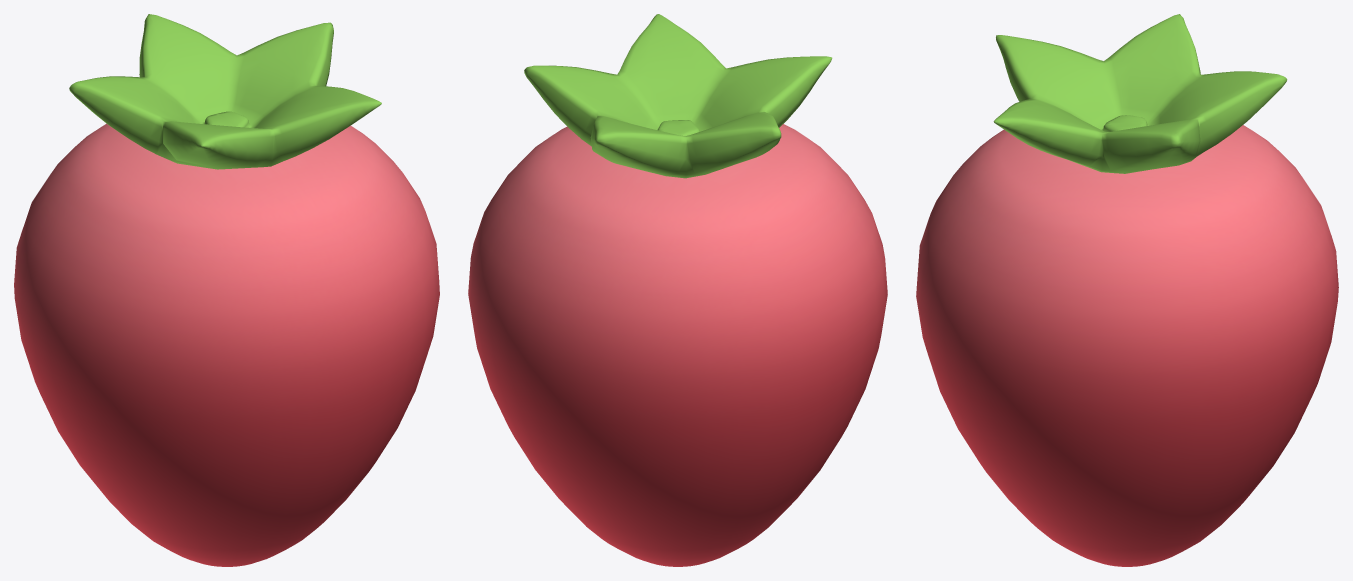
Rendered from strawberry.FBX.
3 renders of one model, left to right at view 1: azimuth 30°, elevation 25°; view 2: azimuth 150°, elevation 25°; view 3: azimuth 270°, elevation 25°, orthographic.
Parts seen in each view (by area): view 1: Sphere004; view 2: Sphere004; view 3: Sphere004.
Part boxes in pixels (x1,y1,x2,y2): Sphere004: (14,14,439,566); Sphere004: (468,14,887,566); Sphere004: (916,14,1338,566).
Size of the model in its own units: 95.05 by 120 by 95.05.
